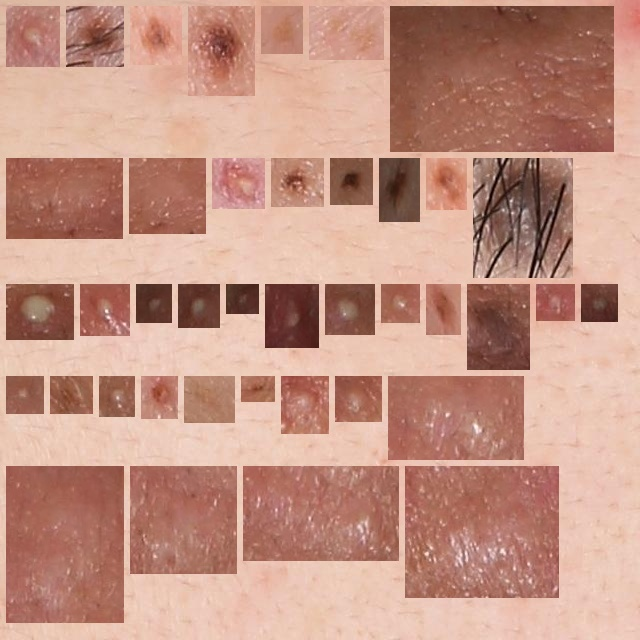hypertrophic_scar: (398, 14, 606, 144), (413, 474, 551, 590), (14, 474, 116, 615), (251, 474, 391, 553), (138, 474, 229, 566), (396, 384, 516, 452), (14, 166, 115, 231), (137, 166, 198, 226)
melasma: (317, 14, 376, 52), (192, 384, 227, 415), (269, 14, 295, 46), (58, 384, 85, 406)
nevus: (481, 166, 565, 270), (196, 14, 247, 88), (475, 292, 522, 362), (74, 14, 116, 59), (138, 14, 174, 57), (279, 166, 316, 199), (387, 166, 412, 214), (434, 166, 459, 202), (338, 166, 365, 197), (434, 292, 453, 327), (149, 384, 170, 411), (249, 384, 267, 394)
pustule: (14, 292, 66, 332), (273, 292, 311, 340), (14, 14, 52, 59), (289, 384, 321, 426), (220, 166, 257, 201), (88, 292, 122, 328), (333, 292, 367, 327), (343, 384, 374, 414), (186, 292, 212, 320), (389, 292, 412, 315), (107, 384, 127, 409), (14, 384, 36, 406), (544, 292, 567, 313), (589, 292, 610, 314), (144, 292, 164, 315), (234, 292, 251, 306)
